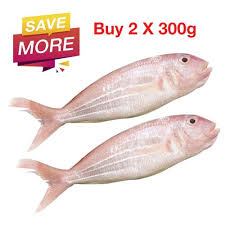Ikan Kerisi: (8, 109, 225, 203), (22, 40, 213, 117)
